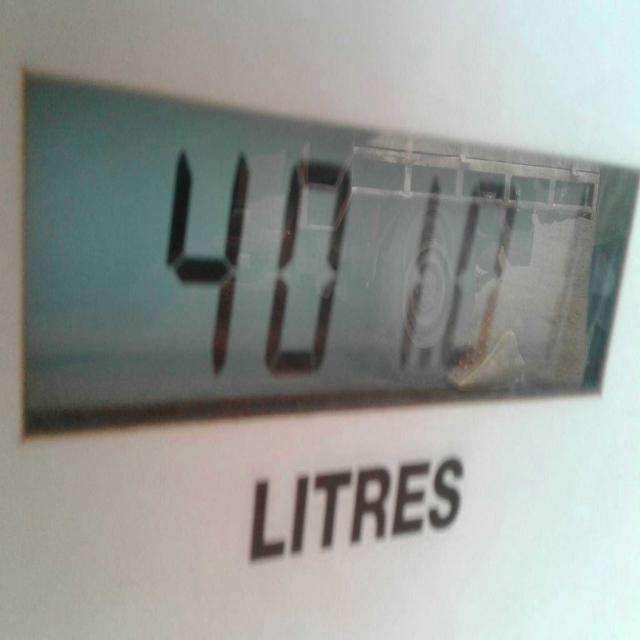.: (420, 342, 434, 374)
0: (266, 147, 356, 380), (449, 171, 521, 370)
1: (397, 166, 440, 373)
4: (167, 132, 250, 380)
